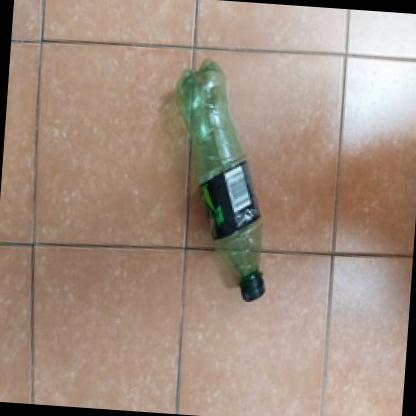plastic_bottles: (152, 53, 292, 310)
